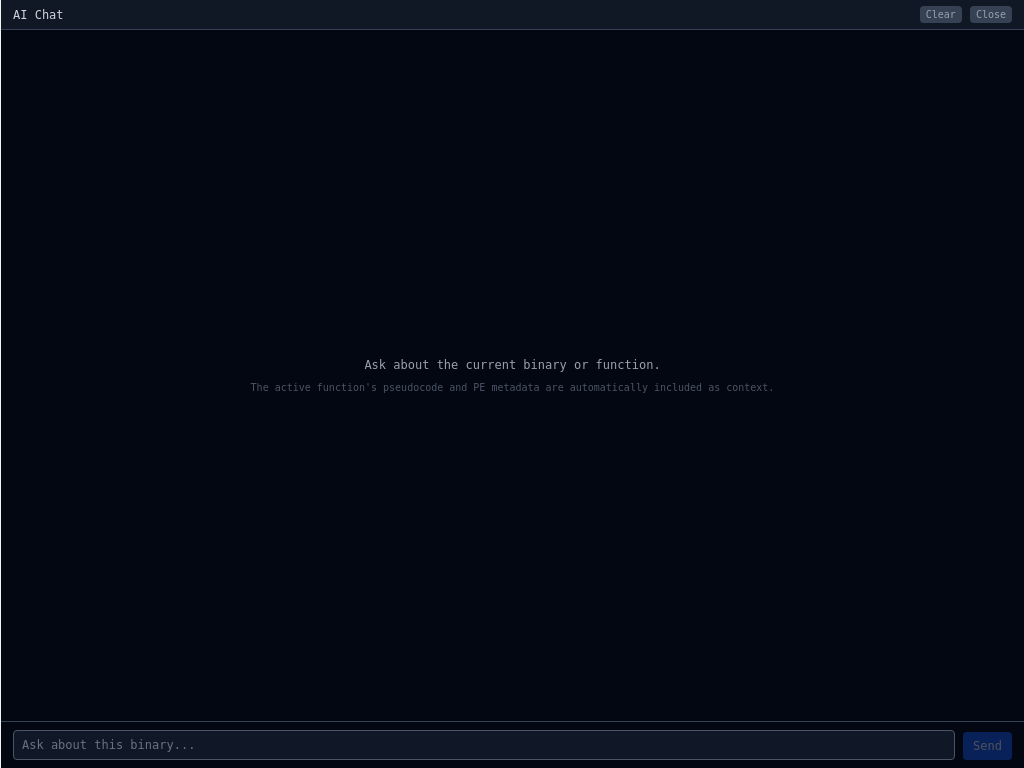
the gate says which profile it looked at, and what is wrong with it › names the active profile and its position, so it does not read as lost settings
In the text box with placeholder "Ask about this binary...": (484, 745) [13,730,955,760], type "what does sub_401000 do?"
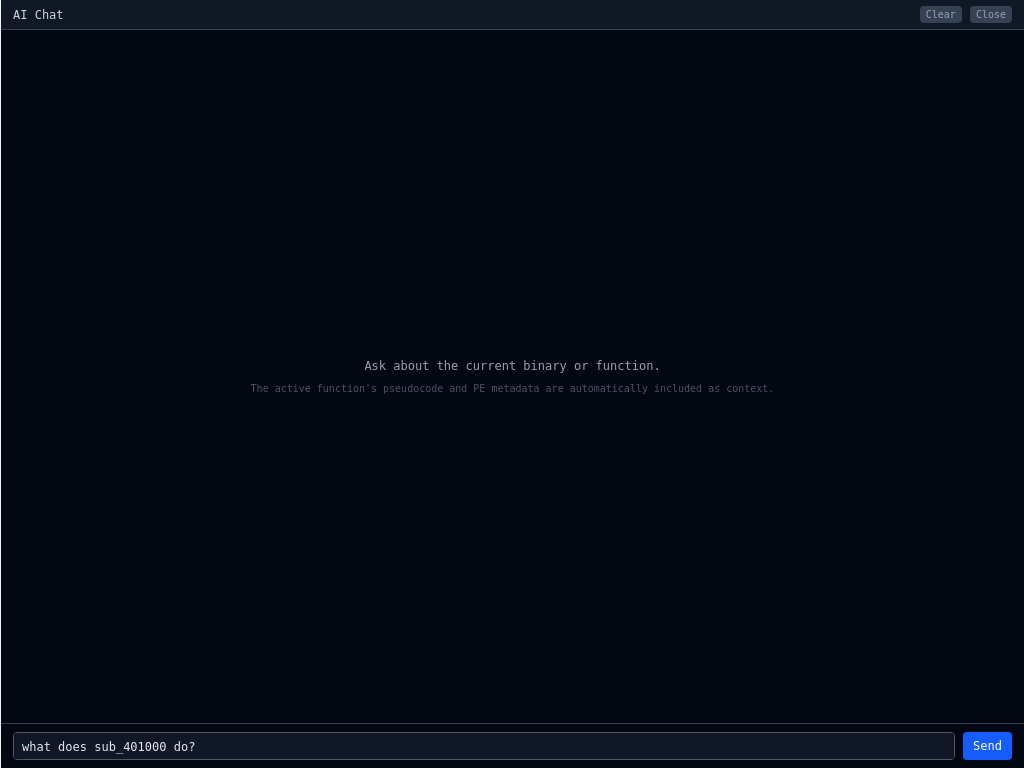
Click the button "Send": (988, 746) [963,732,1012,760]
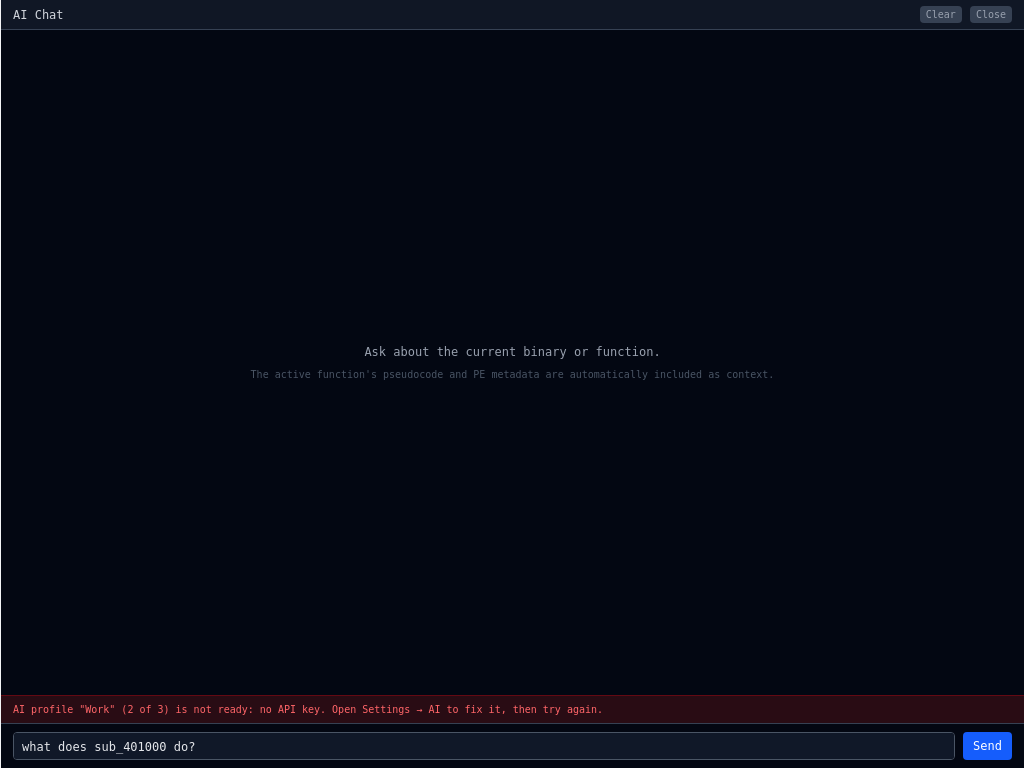
Expected: the text "AI profile \"Work\" (2 of 3) is not ready: no API key." is shown, [13,704,603,715]
